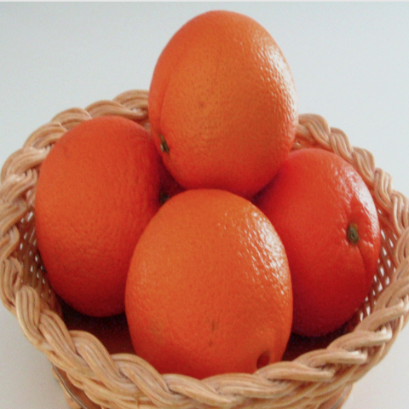orange: (120, 168, 305, 408), (17, 111, 178, 312), (138, 0, 298, 184), (247, 139, 394, 308)
